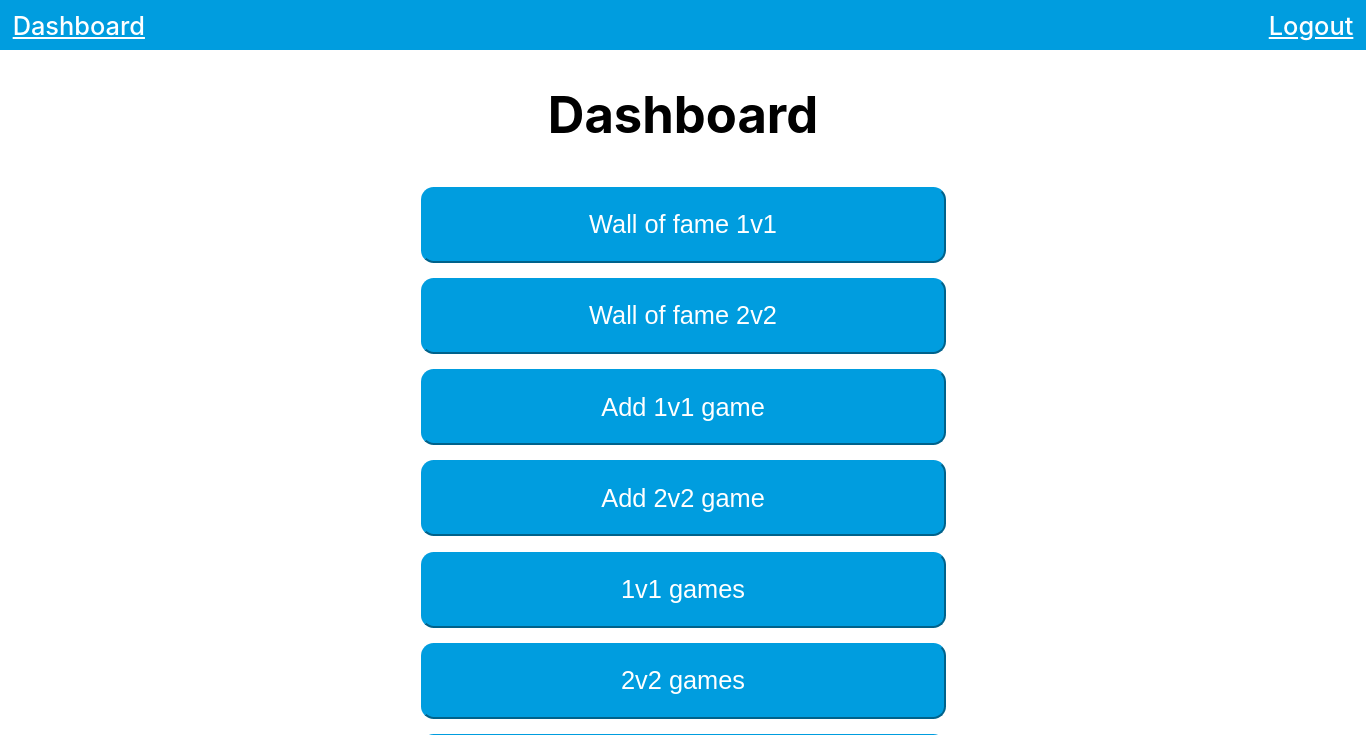
Scenario: renders the WoF 2v2 page
Click the button "Wall of fame 2v2": (683, 316) [420, 278, 946, 354]
(page scrolled)
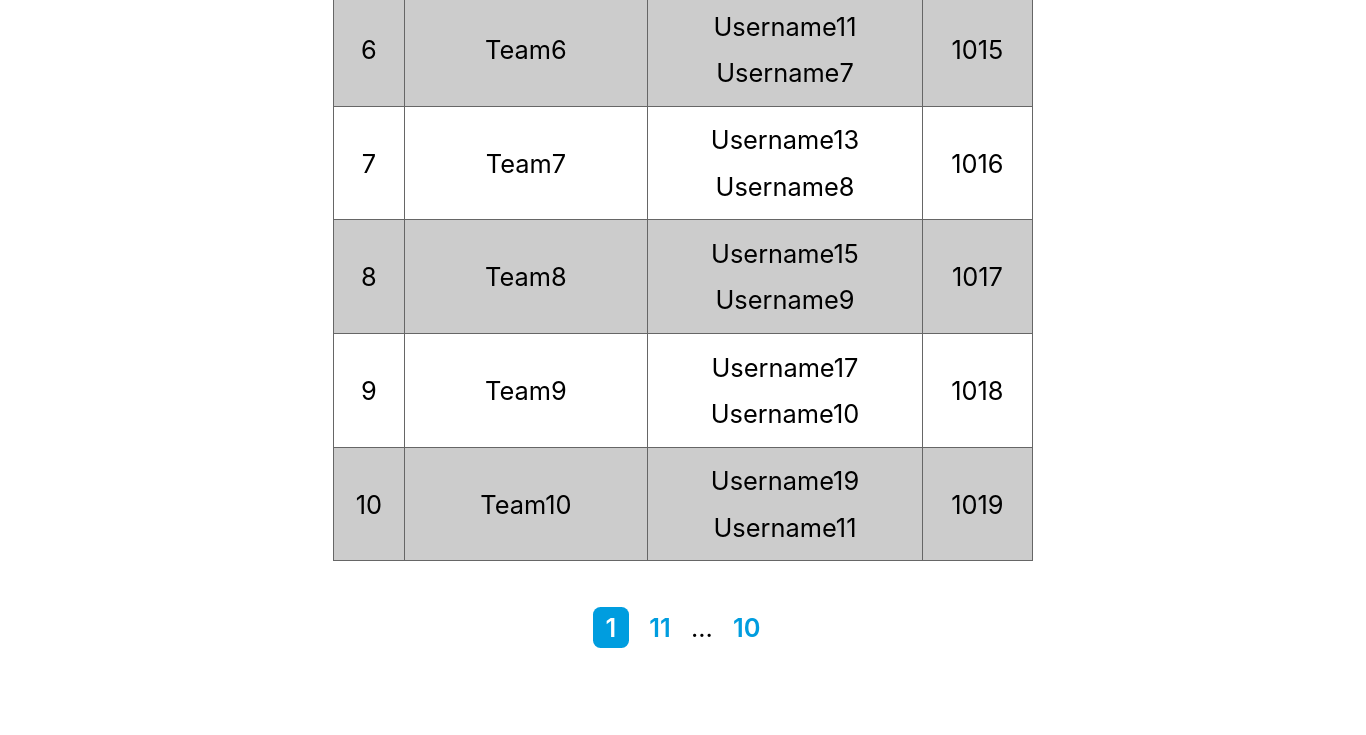
Check: the link "1" is shown, box [593, 607, 629, 648]
Check: the list item "..." is shown, box [691, 612, 713, 643]
